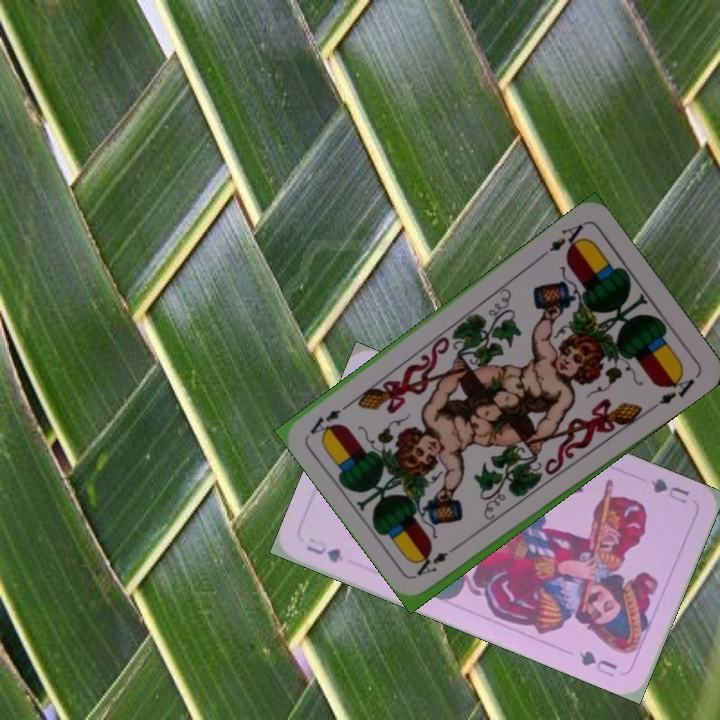EA: (412, 538, 464, 579), (536, 220, 589, 260)
GU: (646, 474, 692, 506), (302, 533, 346, 566)
